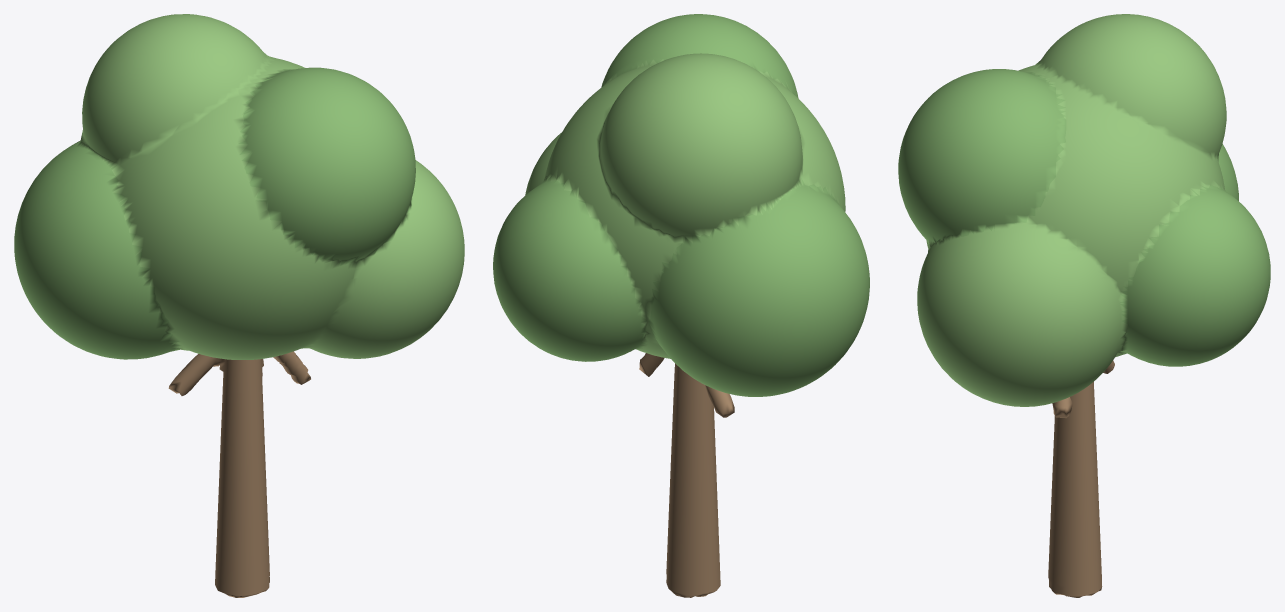
The model's file is oak_tree.glb.
3 views of the same model, side by side, from view 1: azimuth 30°, elevation 25°; view 2: azimuth 150°, elevation 25°; view 3: azimuth 270°, elevation 25° (orthographic).
Visible parts, largest first — view 1: IronSmith model; view 2: IronSmith model; view 3: IronSmith model.
Part boxes in pixels (x1,y1,x2,y2): IronSmith model: (14, 14, 464, 597); IronSmith model: (493, 14, 869, 597); IronSmith model: (898, 14, 1270, 597).
Bounding box in the file's own units: 33.49 × 48 × 29.49.
